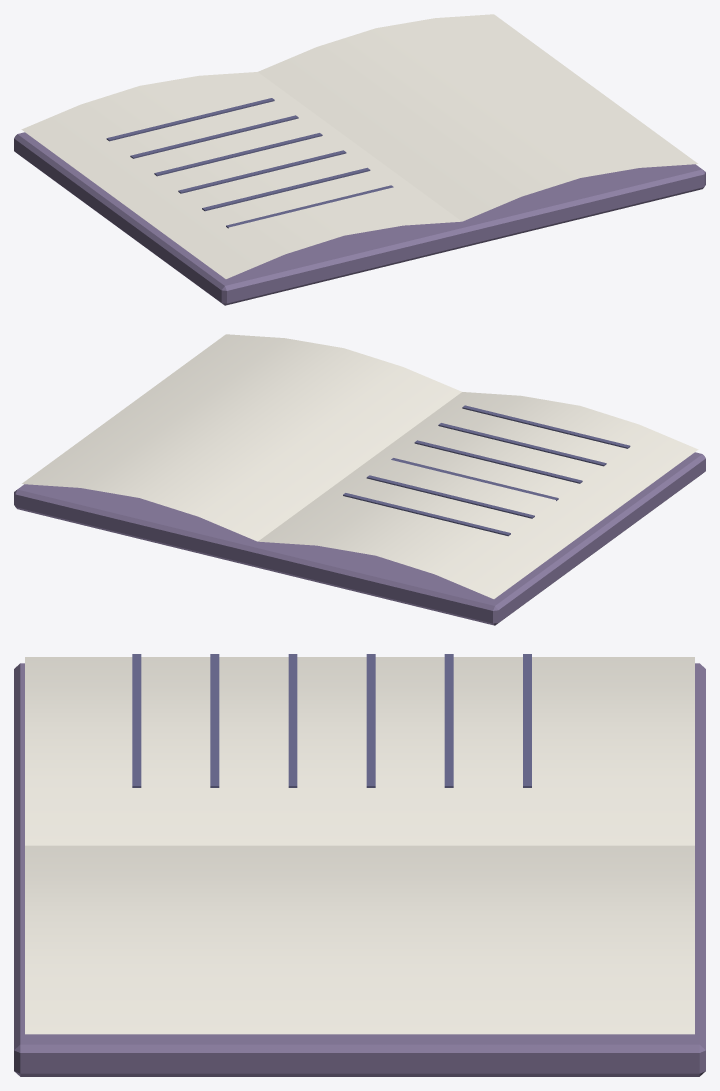
File: book_open.glb
3 renders of one model, top to bottom at view 1: azimuth 30°, elevation 25°; view 2: azimuth 150°, elevation 25°; view 3: azimuth 270°, elevation 25°, orthographic. The views are drawn at different scales.
Parts seen in each view (by area): view 1: book_open; view 2: book_open; view 3: book_open.
Part boxes in pixels (box(x1,y1,x2,y2)): book_open: box(14, 14, 705, 305); book_open: box(14, 334, 705, 625); book_open: box(14, 654, 705, 1076).
Size of the model in its own units: 0.41 by 0.0355 by 0.31.
